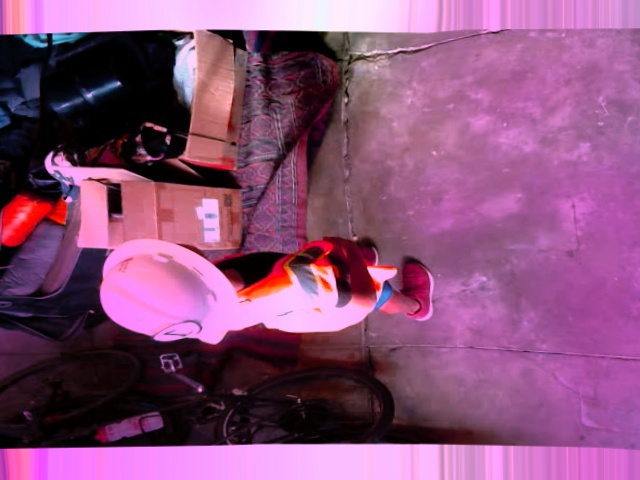one: (149, 320, 201, 342)
